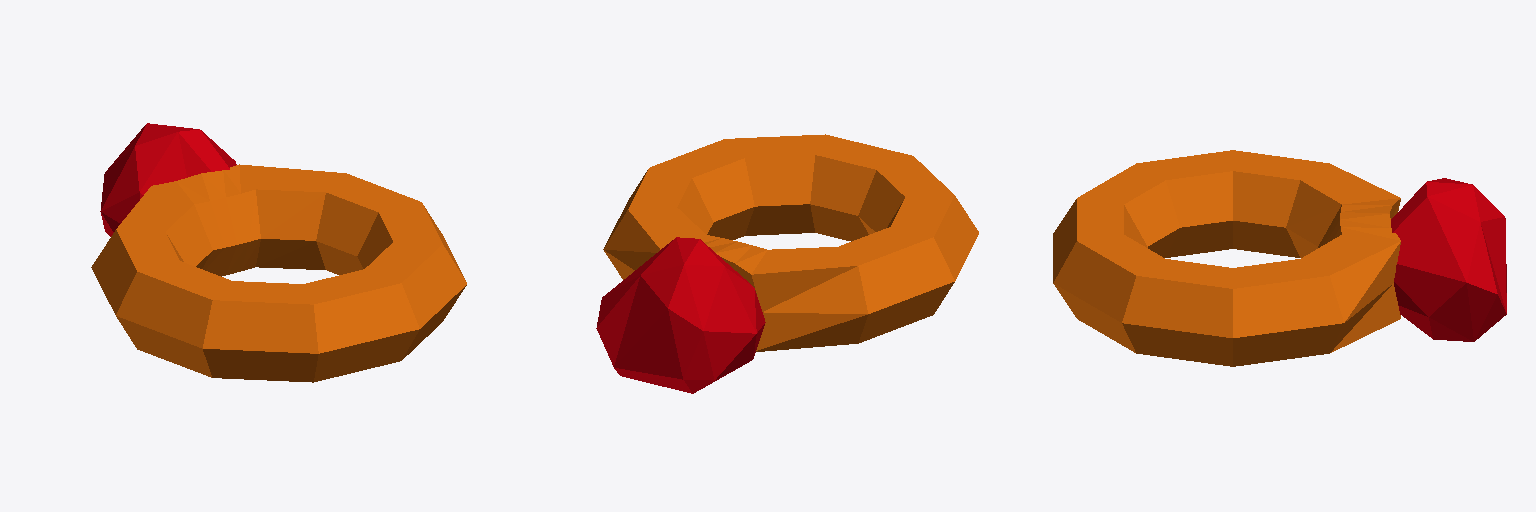
The model's file is GroundItem.obj.
3 renders of one model, left to right at view 1: azimuth 30°, elevation 25°; view 2: azimuth 150°, elevation 25°; view 3: azimuth 270°, elevation 25°, orthographic.
Parts seen in each view (by area): view 1: RubyRingBand; view 2: RubyRingBand; view 3: RubyRingBand.
Boxes of the visible parts, x1,y1,x2,y2 form: RubyRingBand: [91, 123, 466, 382]; RubyRingBand: [596, 134, 978, 393]; RubyRingBand: [1053, 150, 1506, 366].
Bounding box in the file's own units: 0.1318 × 0.0553 × 0.158.